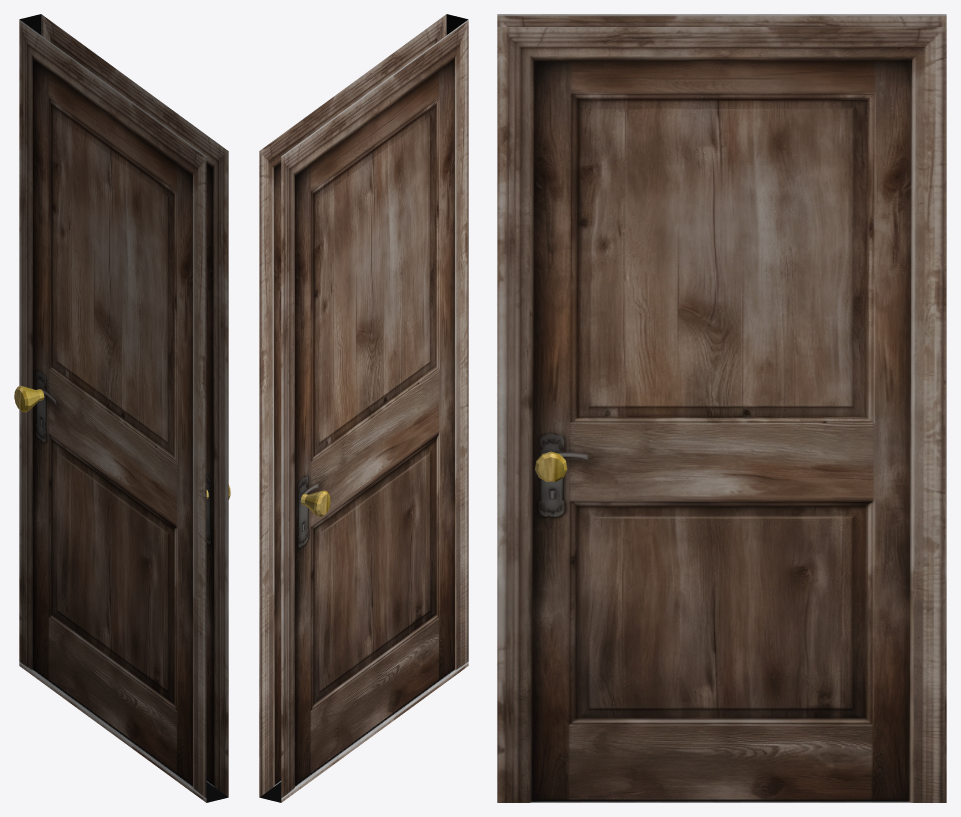
Rendered from portateste3333333.fbx.
The picture shows the model from 3 angles, left to right: view 1: azimuth 30°, elevation 25°; view 2: azimuth 150°, elevation 25°; view 3: azimuth 270°, elevation 25°; orthographic projection. The views are drawn at different scales.
Visible parts, largest first — view 1: Cube.002, Cube.001, Cylinder.001, Cube; view 2: Cube.002, Cube.001, Cylinder.001, Cube; view 3: Cube.001, Cube.002, Cylinder.
Part boxes in pixels (x1,y1,x2,y2): Cube.002: [19, 19, 206, 802]; Cube.001: [41, 14, 228, 797]; Cylinder.001: [14, 386, 44, 412]; Cube: [19, 14, 227, 802]; Cube.002: [281, 19, 468, 802]; Cube.001: [259, 14, 446, 797]; Cylinder.001: [300, 490, 330, 516]; Cube: [260, 14, 467, 802]; Cube.001: [497, 27, 946, 802]; Cube.002: [497, 14, 946, 26]; Cylinder: [535, 451, 567, 481].
Bounding box in the file's own units: 86.69 × 850 × 446.
3 materials, 2 textured.
